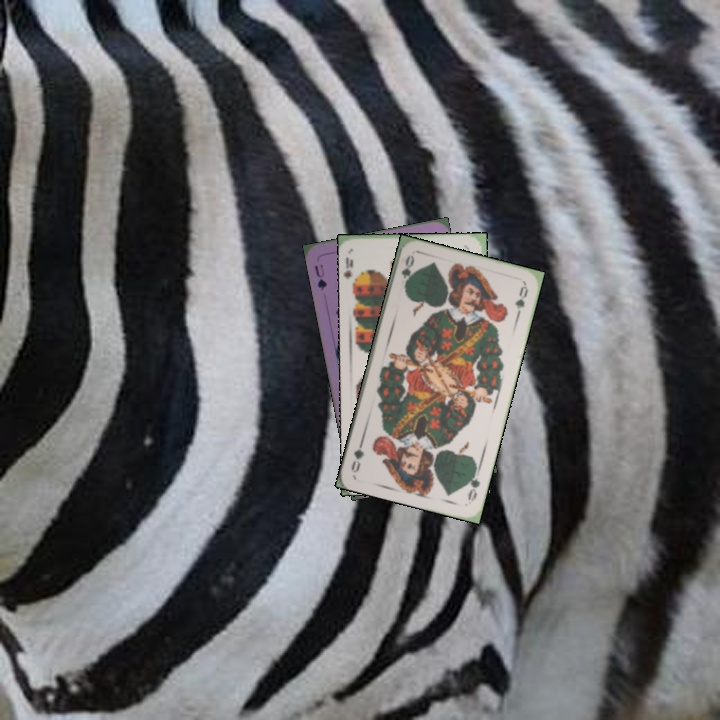GO: (397, 252, 417, 293), (464, 465, 483, 503)
GU: (310, 260, 330, 293)
S9: (342, 253, 361, 290)
